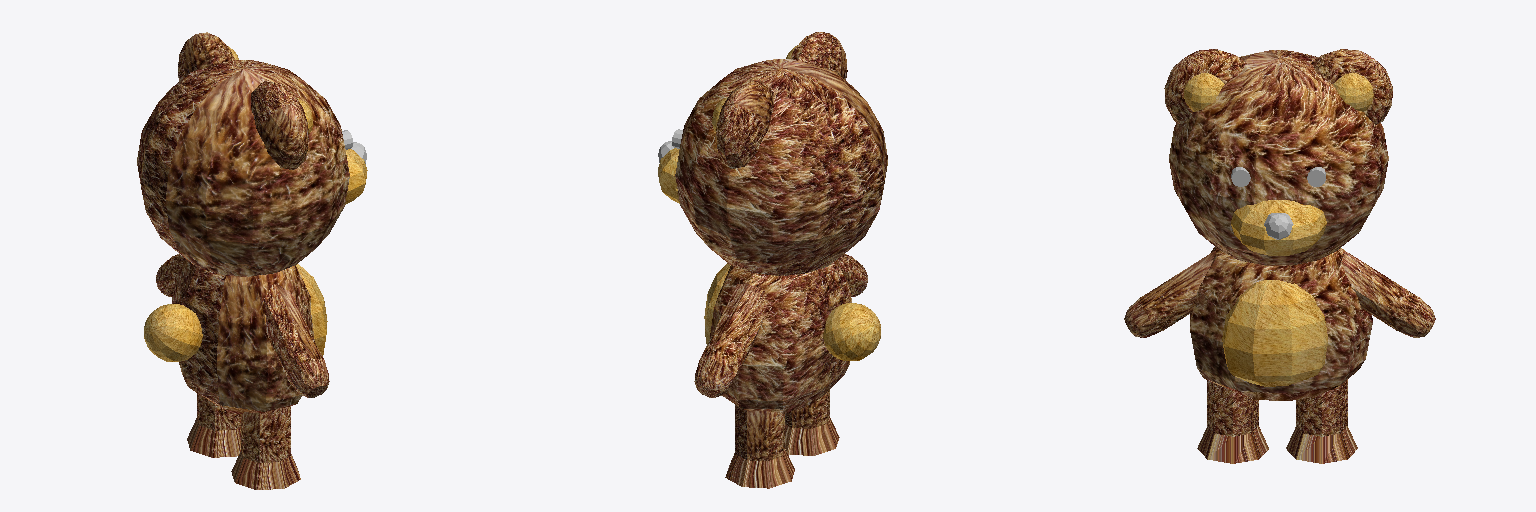
3 views of the same model, side by side, from view 1: azimuth 30°, elevation 25°; view 2: azimuth 150°, elevation 25°; view 3: azimuth 270°, elevation 25° (orthographic).
Parts seen in each view (by area): view 1: Body_Sphere.014; view 2: Body_Sphere.014; view 3: Body_Sphere.014.
Part boxes in pixels (bbox=[...]): Body_Sphere.014: bbox=[137, 32, 367, 489]; Body_Sphere.014: bbox=[658, 32, 887, 488]; Body_Sphere.014: bbox=[1124, 49, 1435, 463].
Bounding box in the file's own units: 3.34 × 5.86 × 4.15.
Materials: 16 (2 with a texture image).